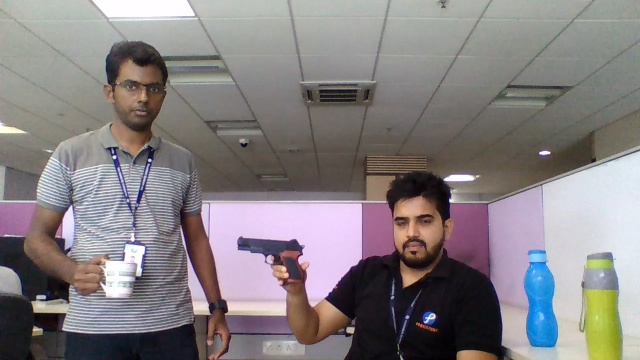gun: (237, 235, 300, 264)
